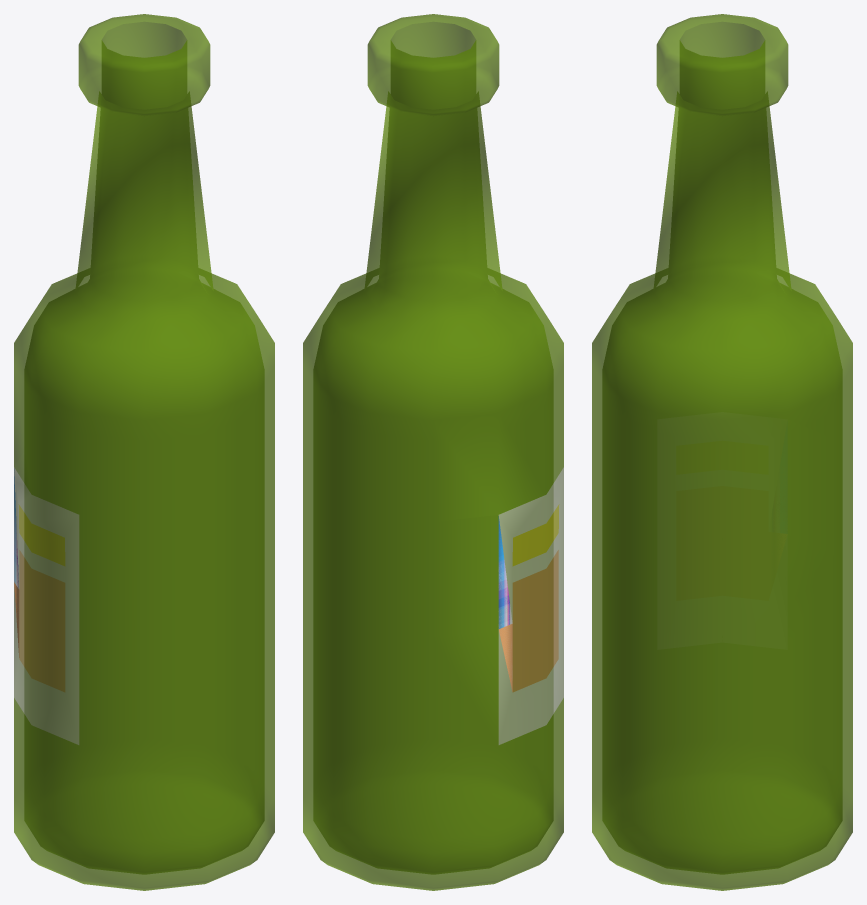
Rendered from SM_Alcohol_Glass.fbx.
3 renders of one model, left to right at view 1: azimuth 30°, elevation 25°; view 2: azimuth 150°, elevation 25°; view 3: azimuth 270°, elevation 25°, orthographic.
Parts seen in each view (by area): view 1: SM_Alcohol; view 2: SM_Alcohol; view 3: SM_Alcohol.
Part boxes in pixels (x1,y1,x2,y2): SM_Alcohol: (14,14,274,890); SM_Alcohol: (303,14,563,890); SM_Alcohol: (592,14,852,890).
Size of the model in its own units: 0.065 by 0.22 by 0.065.
1 material, 1 textured.
